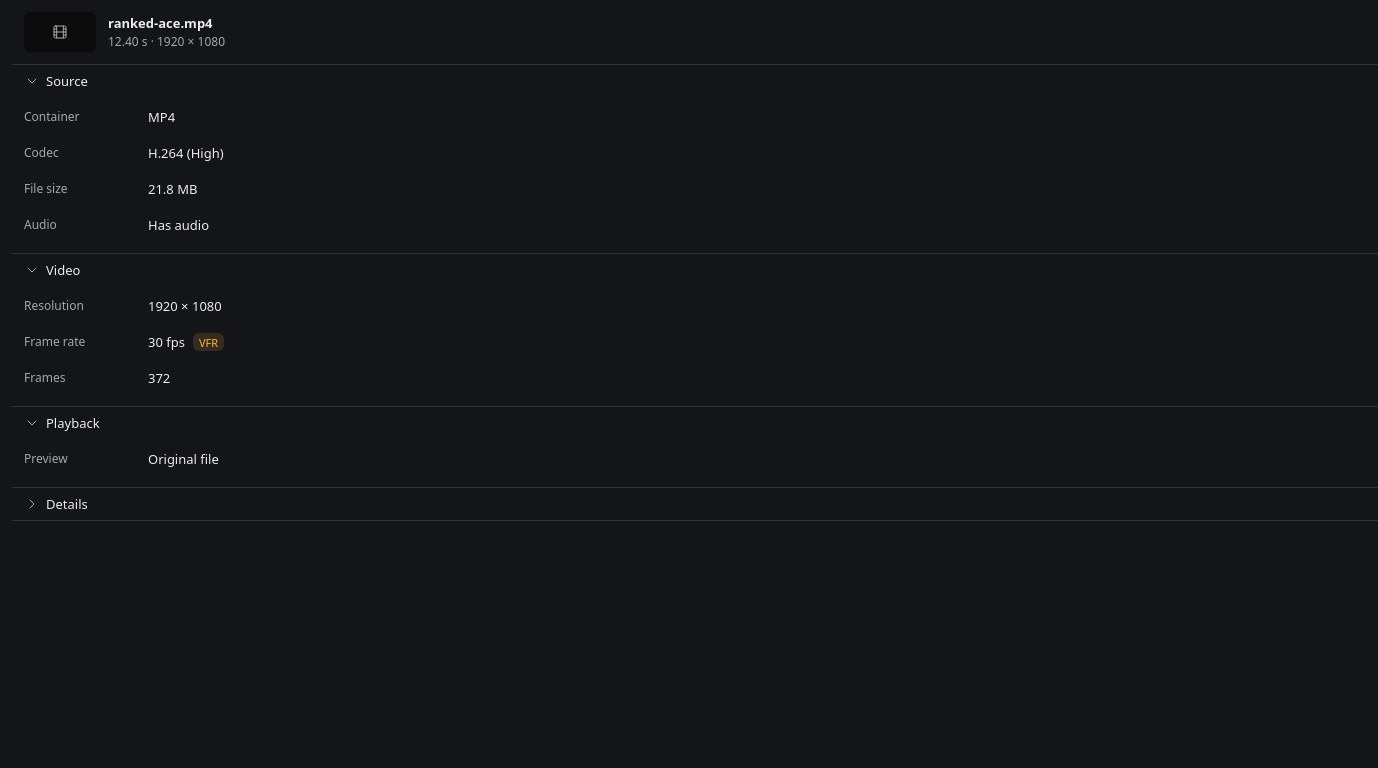
MediaPanel › marks variable frame rate, HDR and alpha with badges
This screenshot has width=1378, height=768.
Expected: the text "VFR" is shown, [193,333,224,351]
Click the button "Details": (67, 504) [12,488,1370,520]
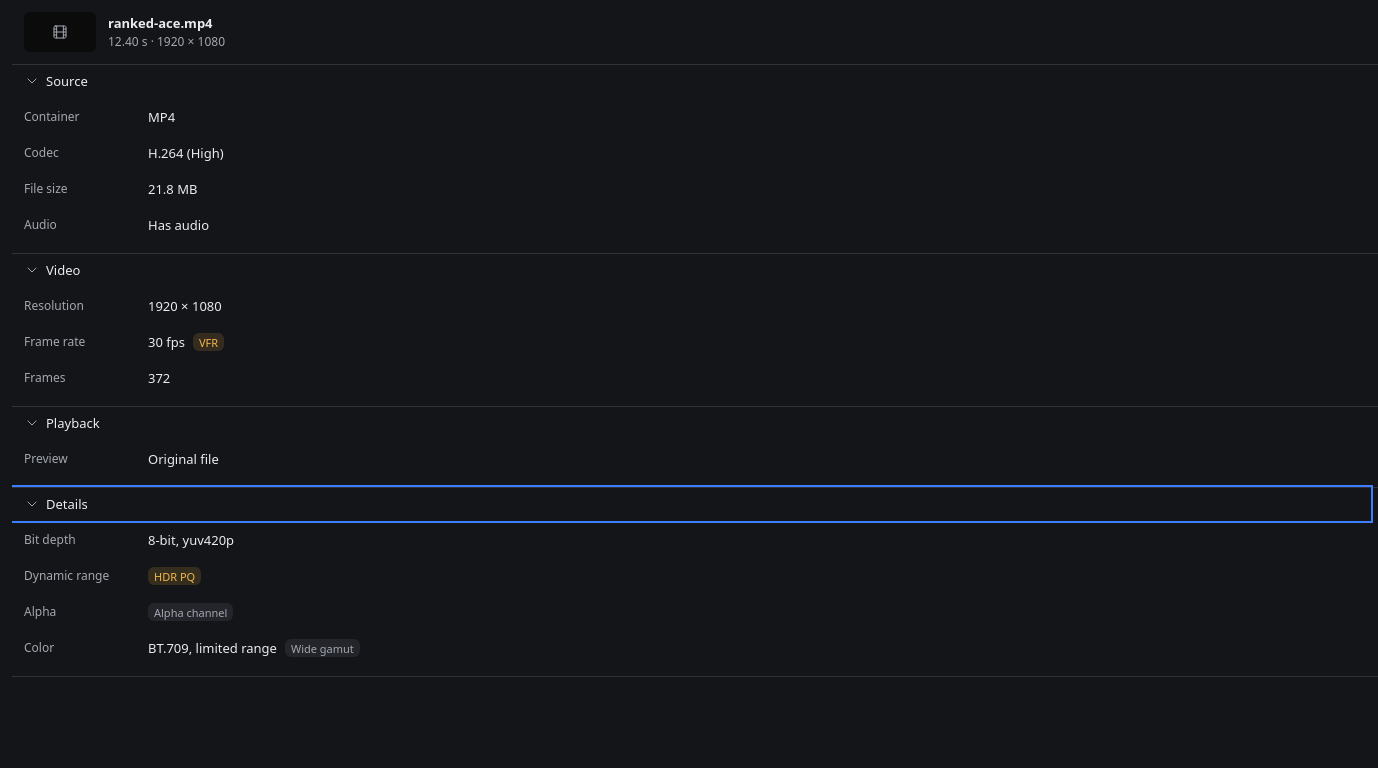
Expected: the text "HDR PQ" is shown, [148,567,201,585]
Expected: the text "Alpha channel" is shown, [148,603,233,621]
Expected: the text "Wide gamut" is shown, [285,639,360,657]
